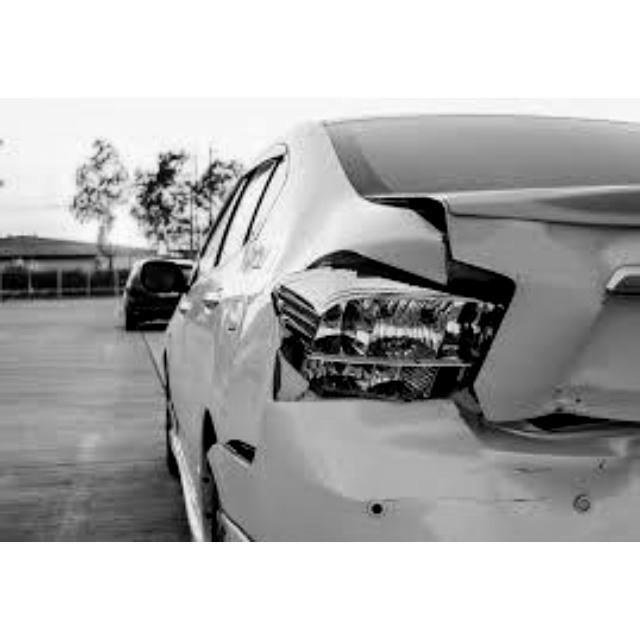Taillight-Damage: (252, 243, 504, 397)
boot-dent: (445, 187, 637, 458)
rear-bumper-dent: (205, 434, 500, 541)
